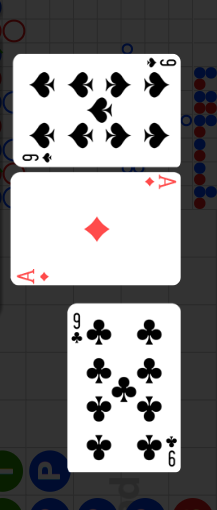9C: (164, 434, 177, 468)
9S: (144, 56, 177, 69)
AD: (16, 267, 52, 284)
